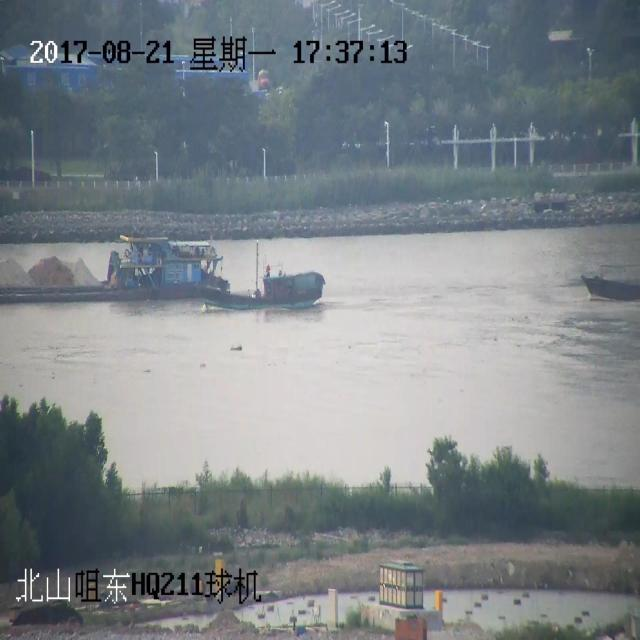cargoship: (1, 196, 214, 316)
fishing boat: (200, 238, 336, 319)
